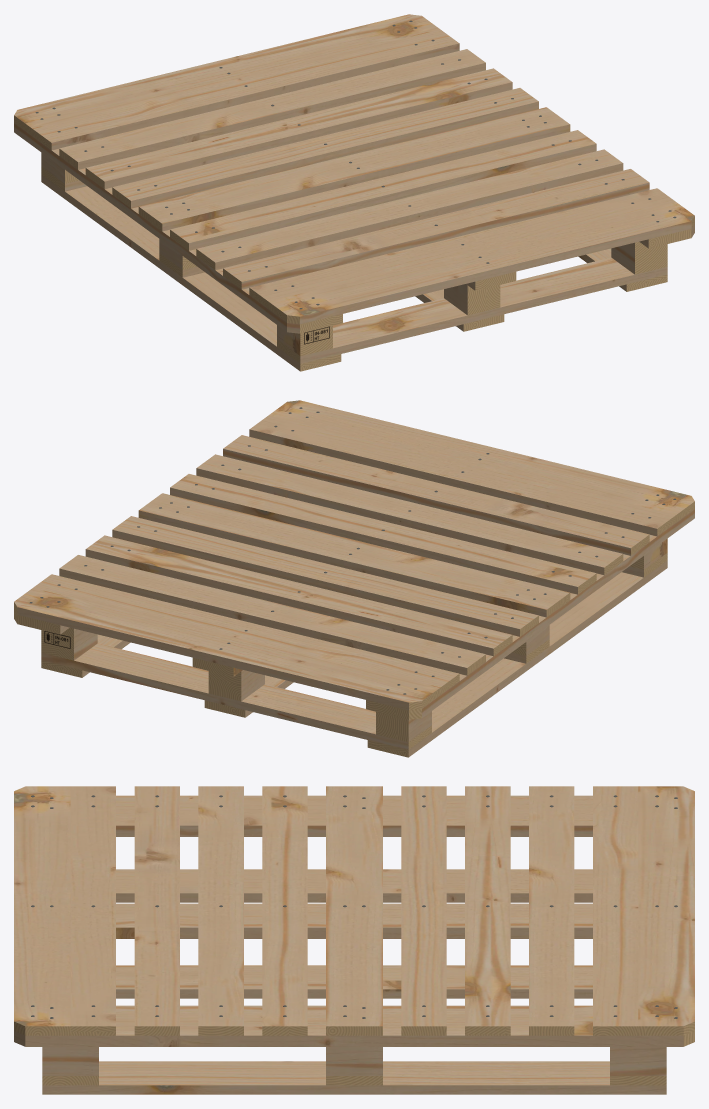
Rendered from cp6-type-pallet-1200x1000.glb.
3 views of the same model, one above another, from view 1: azimuth 30°, elevation 25°; view 2: azimuth 150°, elevation 25°; view 3: azimuth 270°, elevation 25° (orthographic). The views are drawn at different scales.
Parts seen in each view (by area): view 1: cp6-type-pallet-1200x1000; view 2: cp6-type-pallet-1200x1000; view 3: cp6-type-pallet-1200x1000.
Part boxes in pixels (left/top/right/bottom): cp6-type-pallet-1200x1000: left=14, top=14, right=694, bottom=371; cp6-type-pallet-1200x1000: left=14, top=400, right=694, bottom=757; cp6-type-pallet-1200x1000: left=14, top=786, right=694, bottom=1094.
Size of the model in its own units: 1 by 0.157 by 1.2.
Materials: 4 (3 with a texture image).
